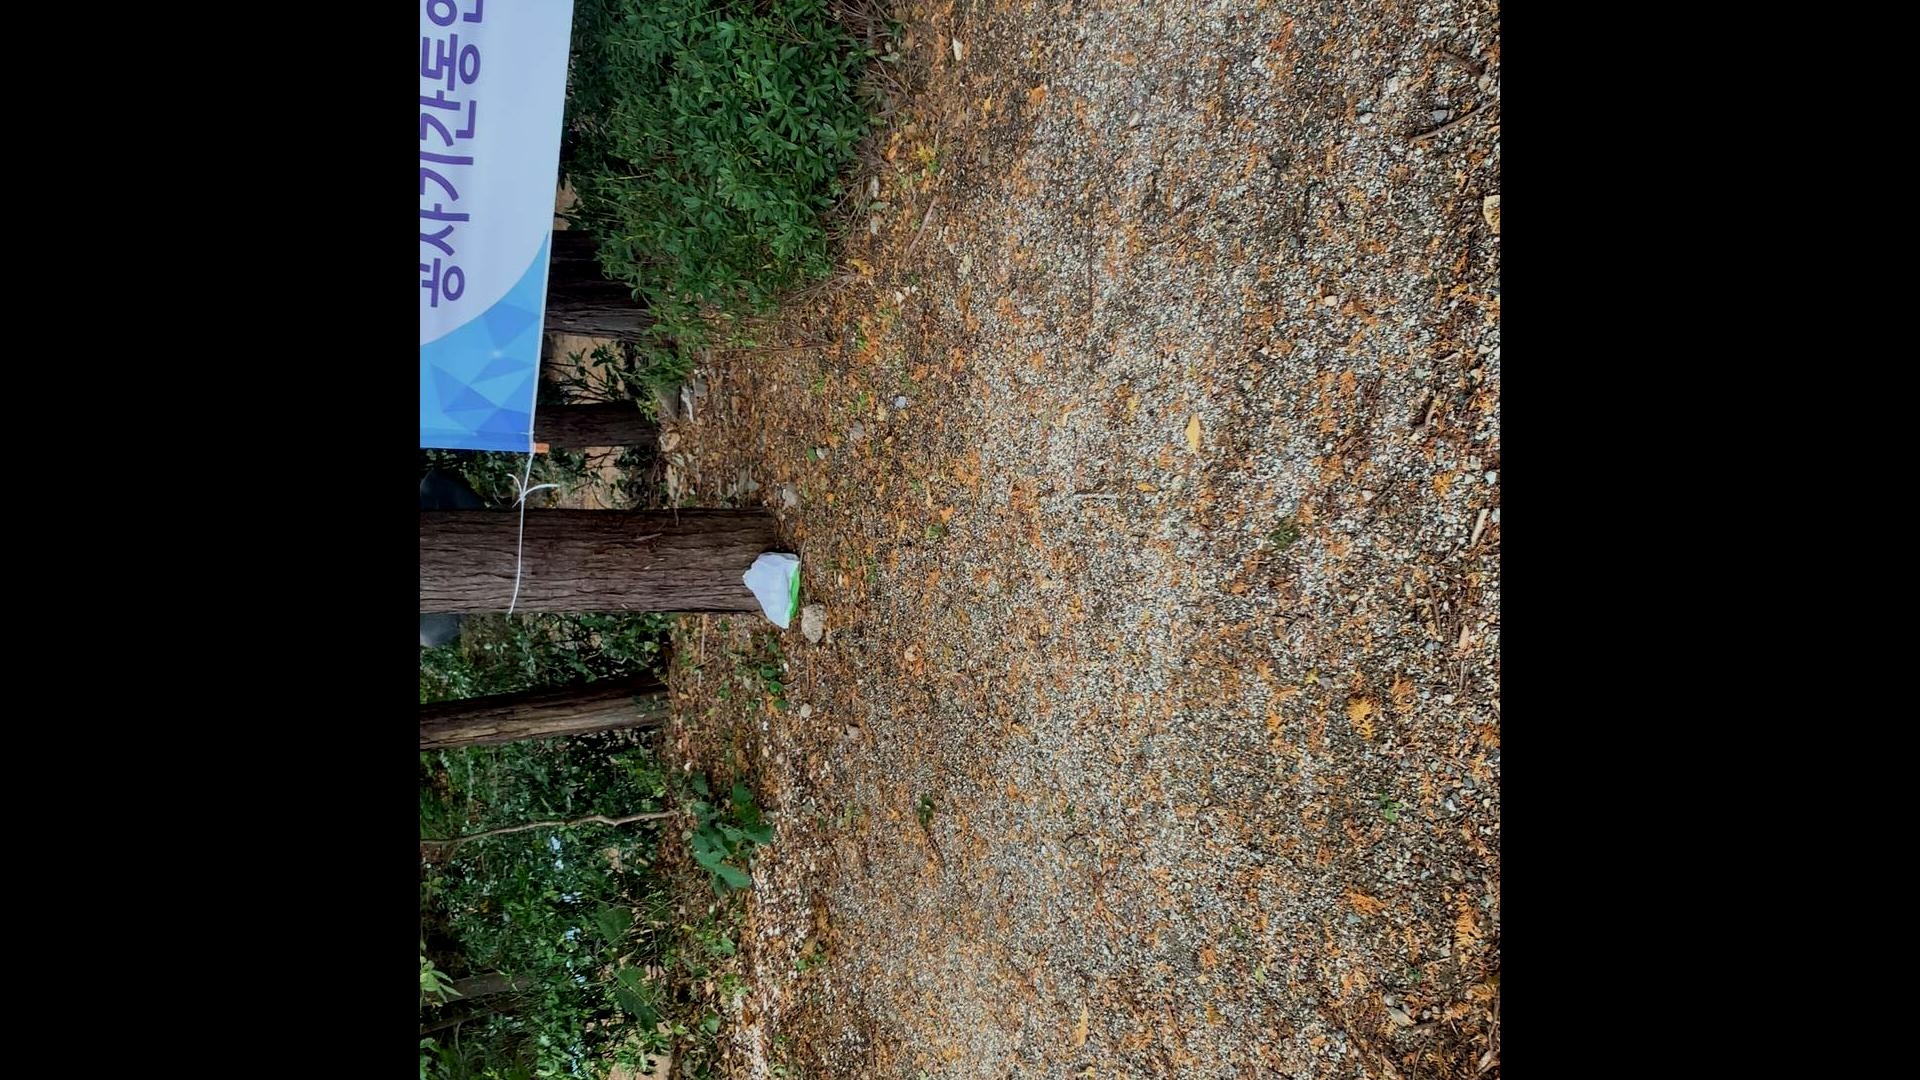white_bag: (737, 546, 806, 636)
